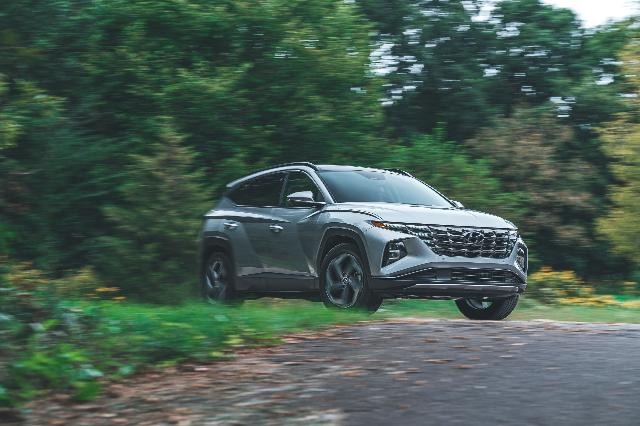hyundai: (196, 161, 528, 321)
